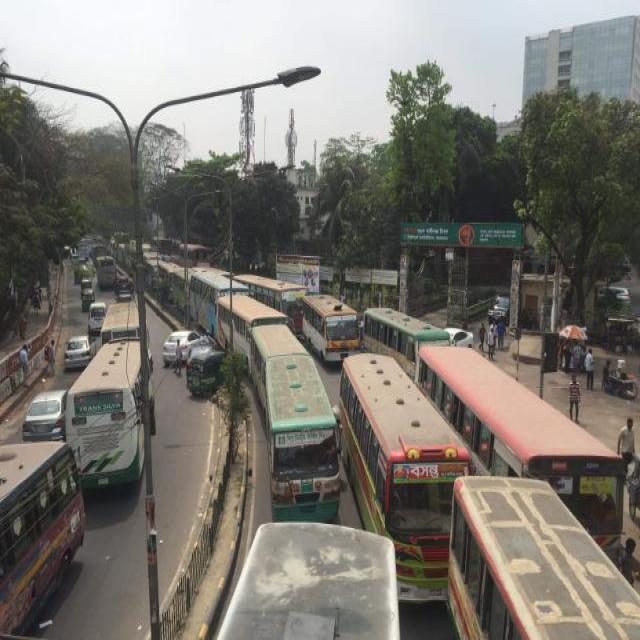BUS: (416, 344, 631, 602), (343, 349, 476, 560), (0, 444, 84, 639), (62, 342, 148, 500), (263, 354, 341, 511), (359, 306, 448, 381), (300, 296, 363, 366), (95, 258, 116, 291)
